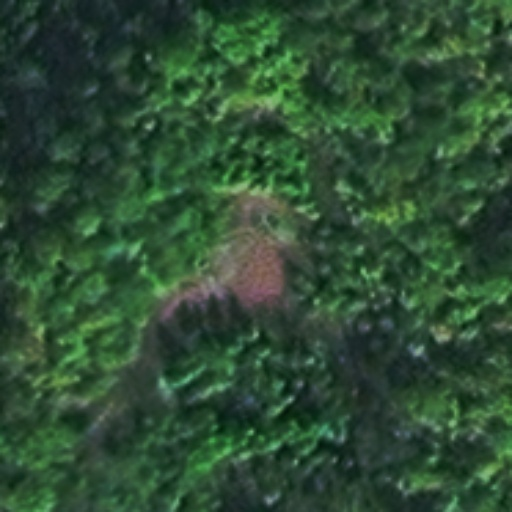landslide: (171, 204, 285, 308)
